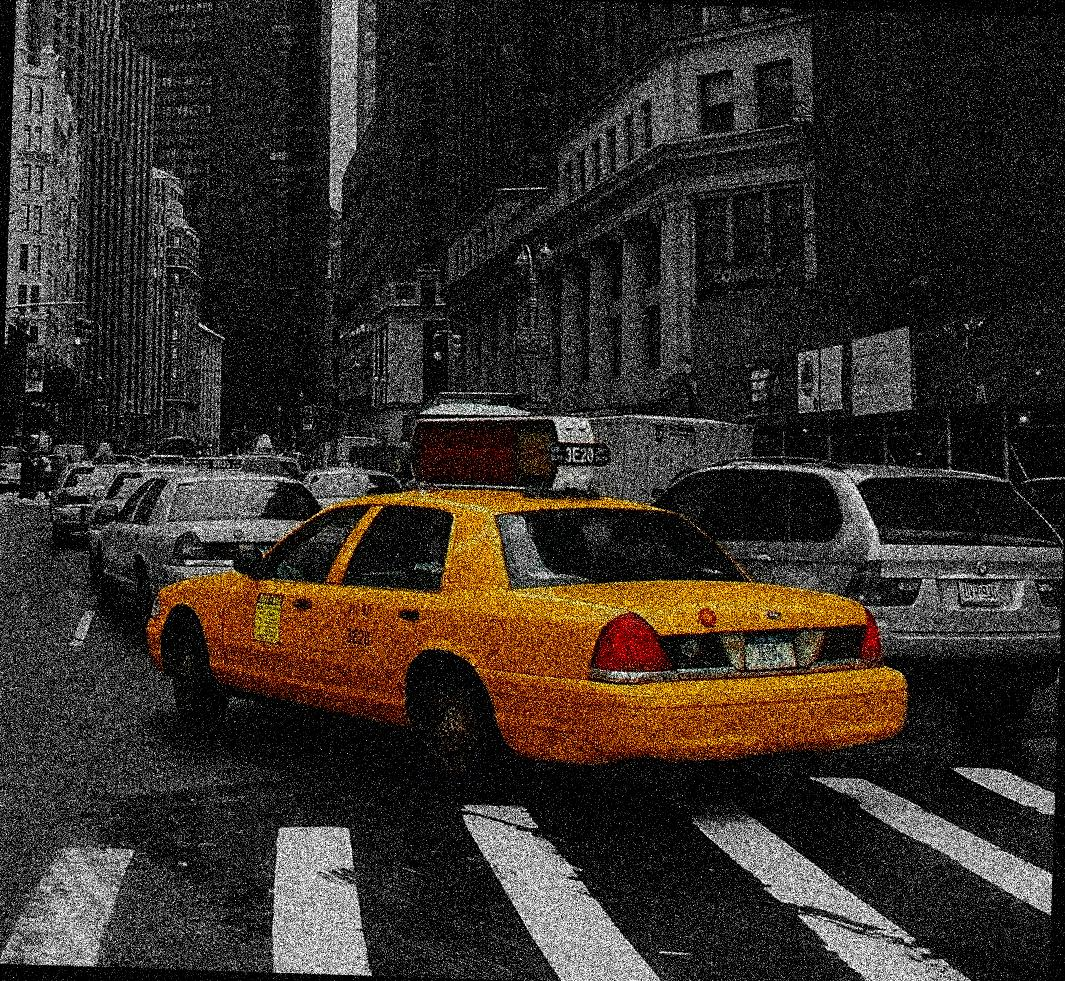taxi: (111, 485, 913, 780)
